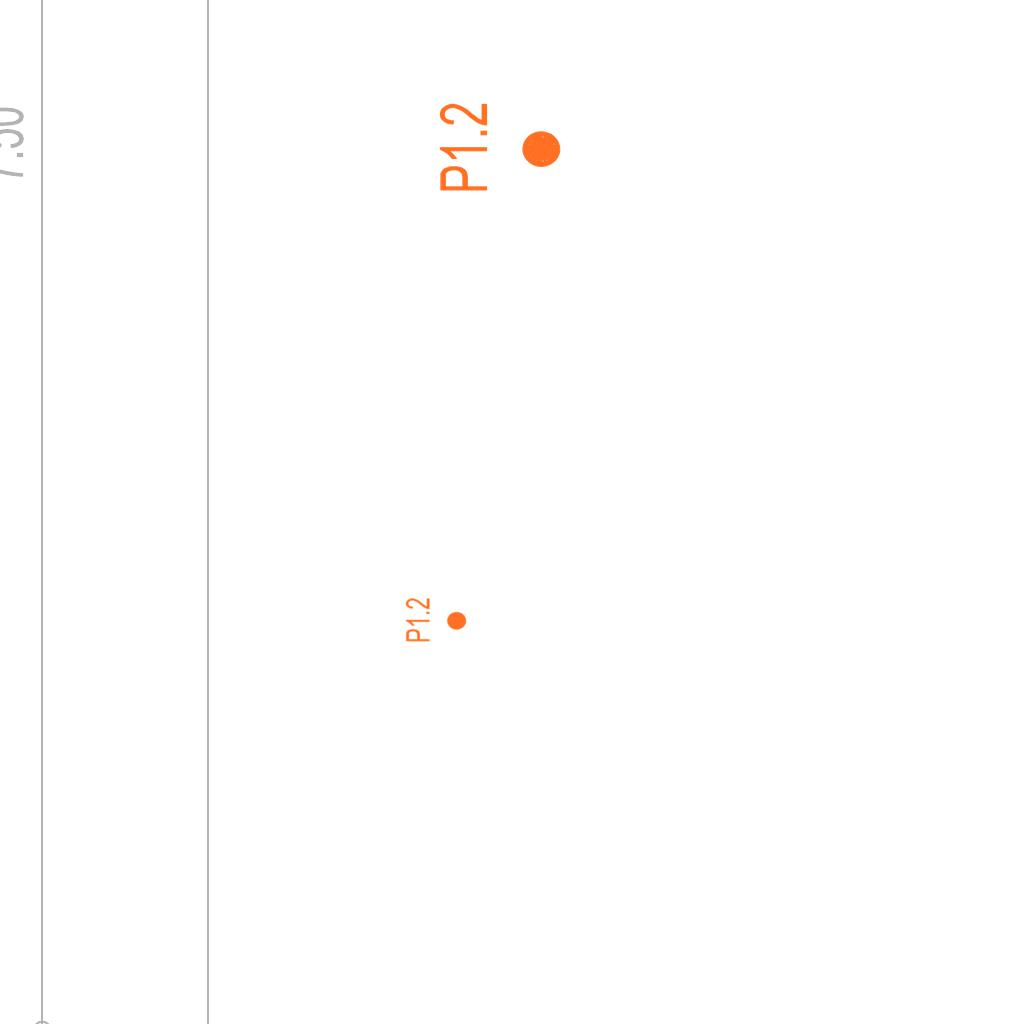Downlight_LED_Einbauleuchten_Flur: (436, 101, 564, 194), (404, 597, 468, 643)
